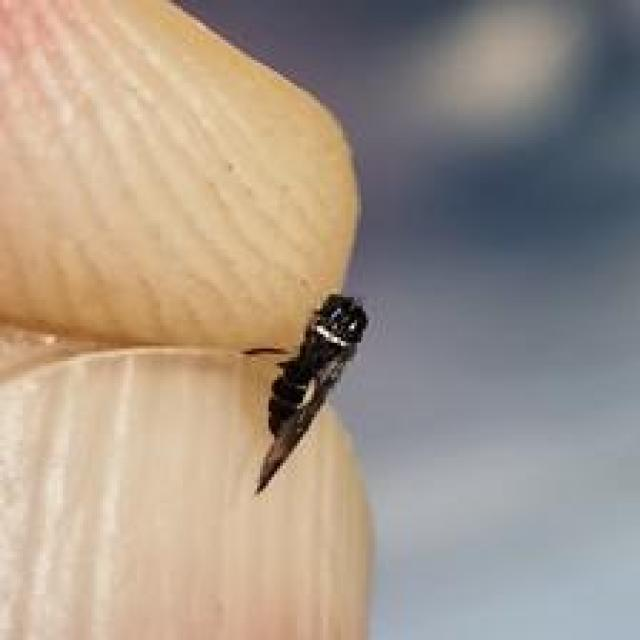Aedes albopictus: (241, 292, 370, 494)
